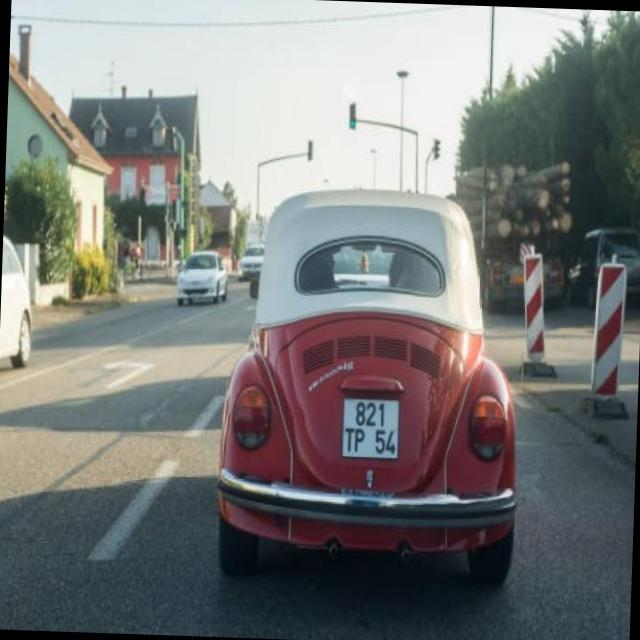car: (232, 181, 527, 575), (0, 244, 32, 370), (172, 248, 230, 305)
